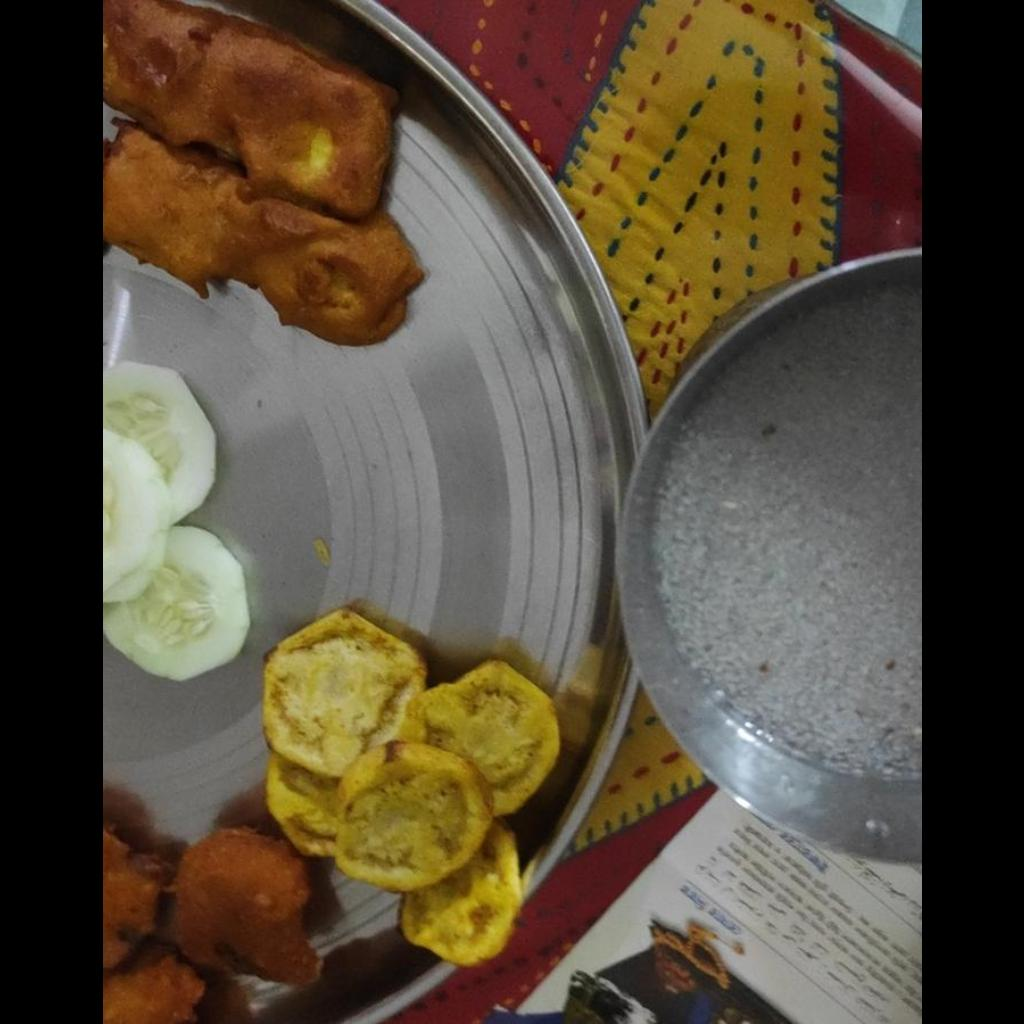banana: (259, 603, 560, 965)
beguni: (102, 5, 420, 347)
cucumber: (102, 358, 247, 684)
juice: (653, 258, 920, 773)
peyaju: (102, 821, 315, 1023)
